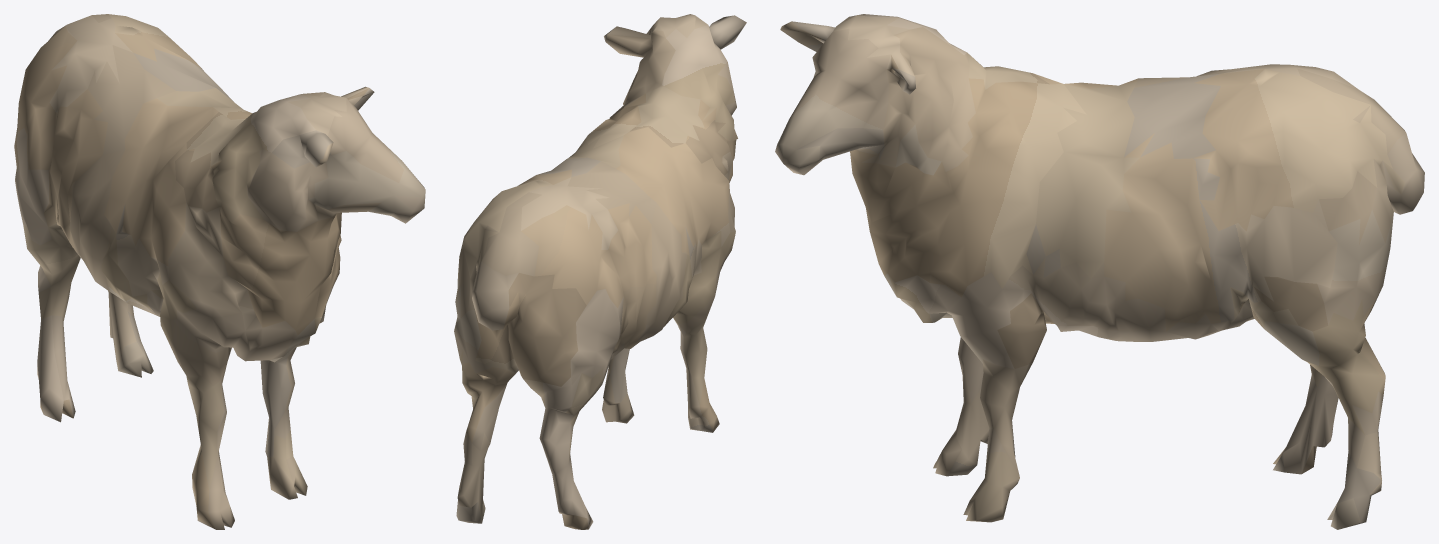
Rendered from sheep.glb.
The picture shows the model from 3 angles, left to right: view 1: azimuth 30°, elevation 25°; view 2: azimuth 150°, elevation 25°; view 3: azimuth 270°, elevation 25°; orthographic projection. The views are drawn at different scales.
Visible parts, largest first — view 1: LO.001; view 2: LO.001; view 3: LO.001.
Part boxes in pixels (box(x1,y1,x2,y2)): LO.001: box(14, 14, 425, 529); LO.001: box(454, 14, 746, 529); LO.001: box(775, 14, 1424, 529).
Size of the model in its own units: 0.4994 by 1.11 by 1.35.
1 material, 1 textured.
